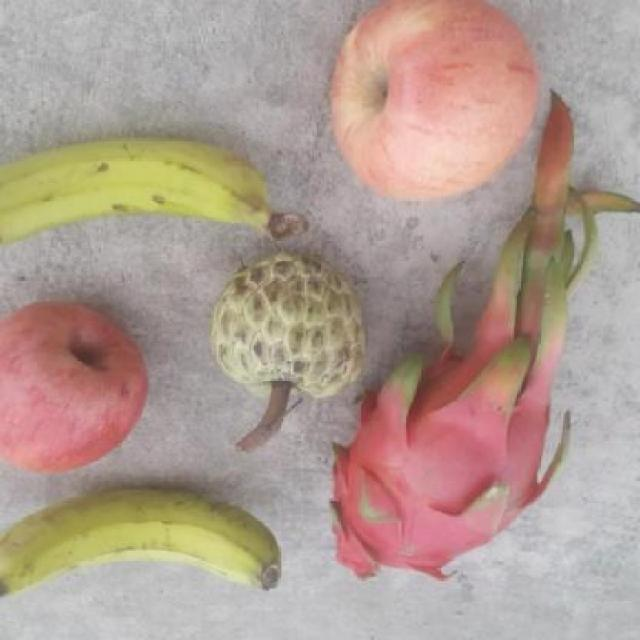apple: (316, 1, 542, 201), (1, 294, 155, 474)
banana: (0, 481, 288, 639), (0, 131, 295, 271)
dragon fruit: (325, 316, 573, 582)
sugar apple: (202, 245, 373, 414)
